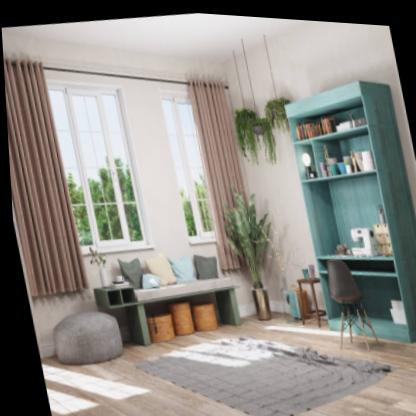Curtains: (3, 59, 85, 298), (184, 76, 244, 268)
Window: (47, 81, 148, 249), (158, 89, 216, 237)
